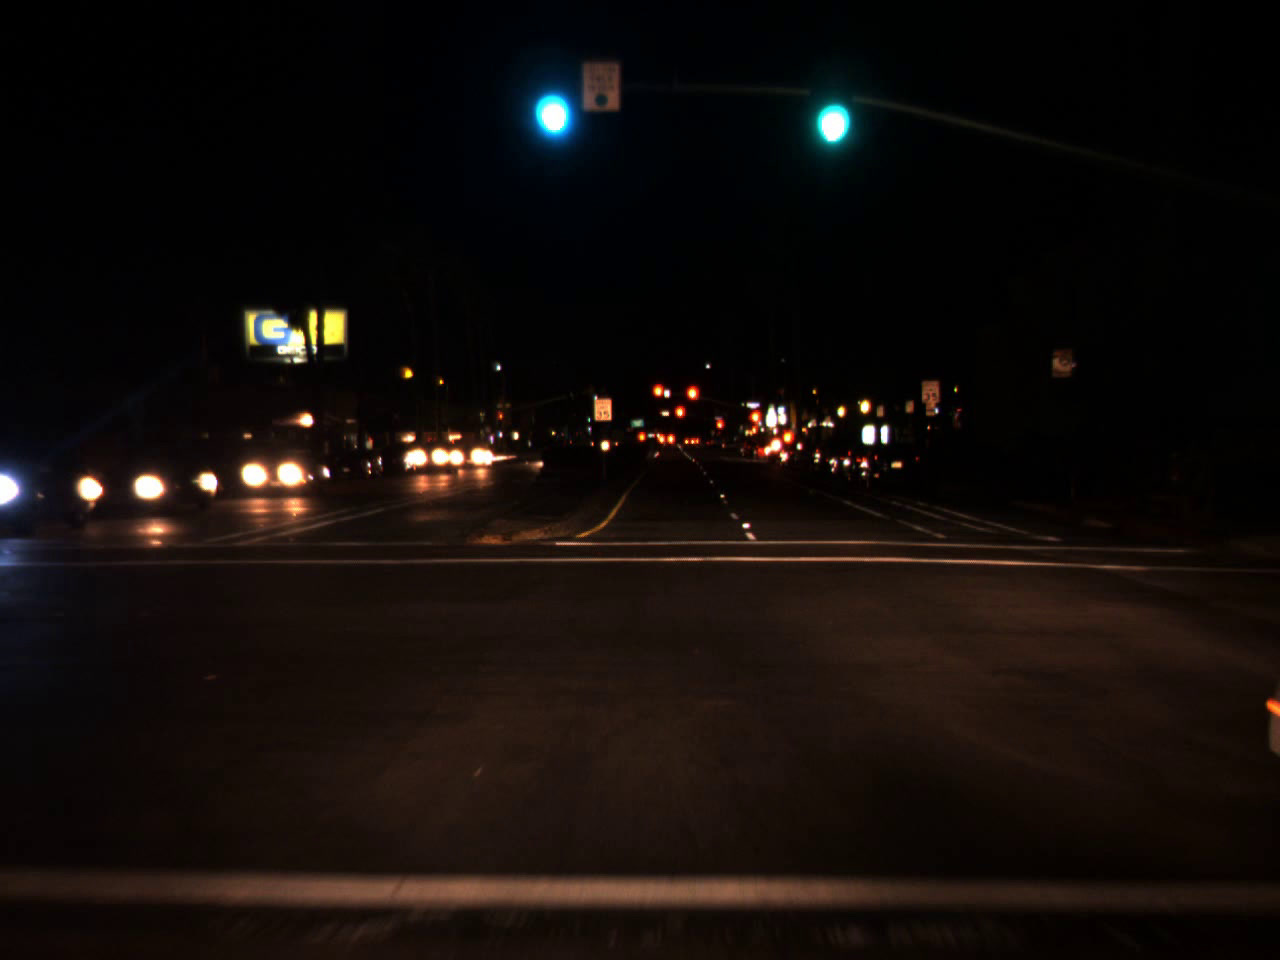go: (526, 58, 574, 145), (807, 66, 852, 153)
stop: (747, 406, 763, 446), (685, 382, 700, 419), (651, 383, 664, 410), (675, 403, 687, 432), (715, 418, 725, 434), (497, 411, 503, 427)
